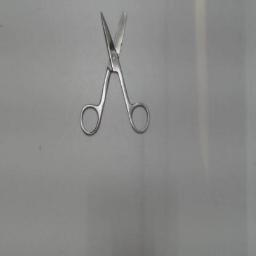Dressing Scissors: (76, 2, 154, 142)
